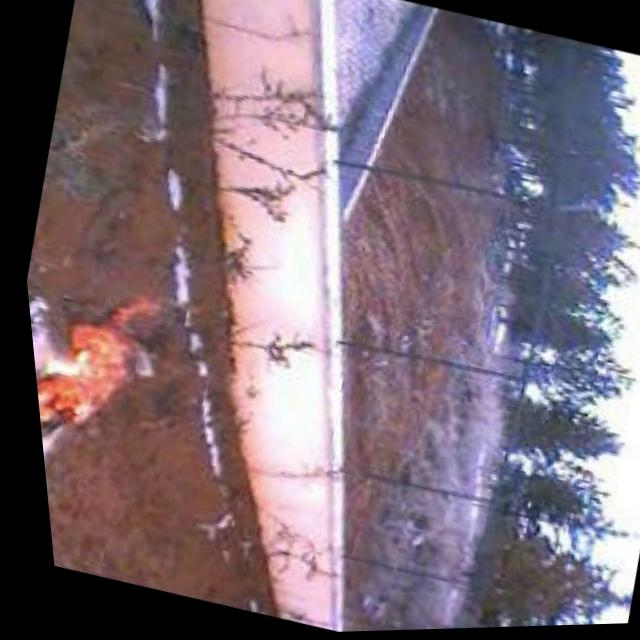Fire: (21, 269, 169, 473)
